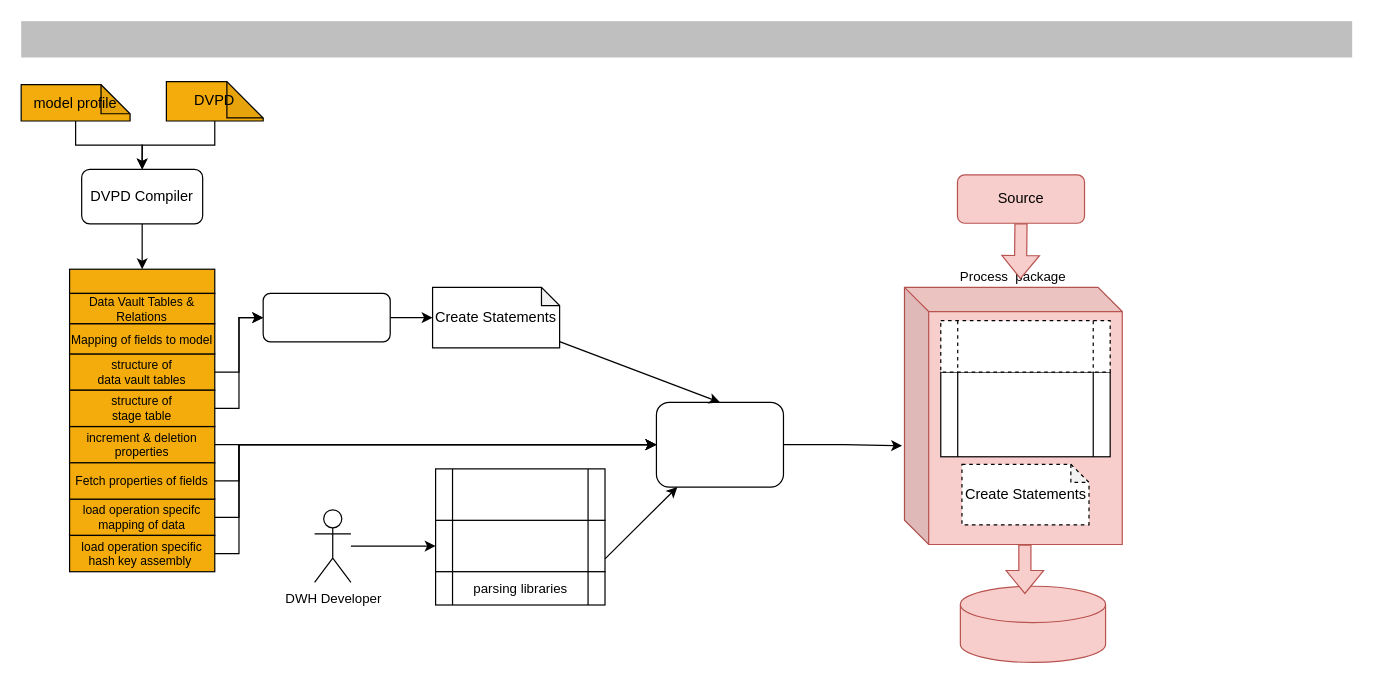
Image size: 1373x684. Some labels were removed from this diagram. Here are the shapes that lost their labels. From the top down, the centre of each, then its label:
(686,39): Example B: Code generator
(141,280): Basic pipeline properties
(326,317): DDL Generator
(1025,345): libraries
(1025,414): deployment code fetch code stage code load code
(719,444): Code generator
(519,494): increment pattern libraries
(519,545): load famework libraries
(1032,623): Vault
